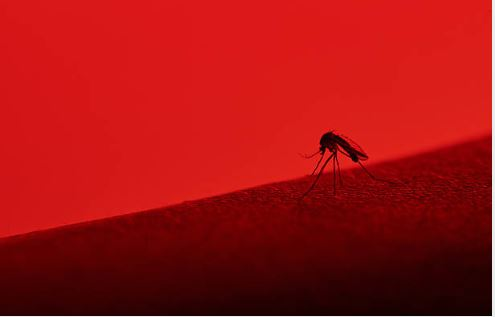dengue_mosquito: (295, 130, 397, 199)
